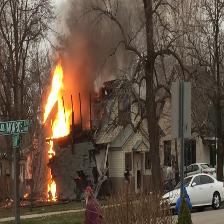fire: (46, 62, 72, 144)
smoke: (77, 15, 100, 65)
